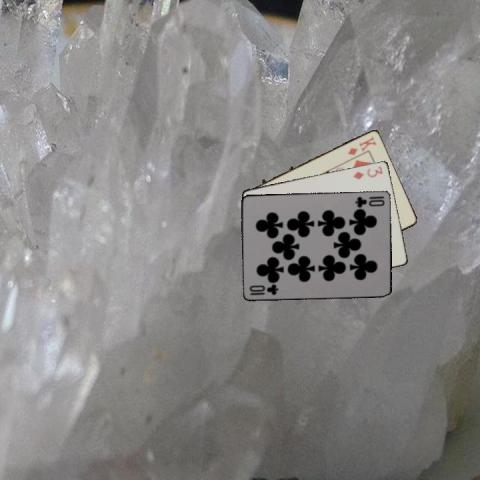10c: (353, 193, 386, 208), (247, 281, 280, 296)
3d: (351, 162, 384, 180)
Kd: (344, 133, 378, 156)
